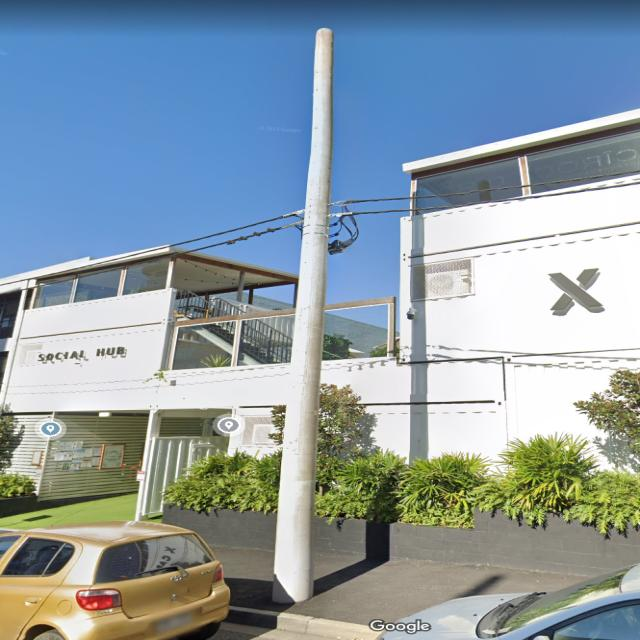concrete-pole: (271, 27, 336, 603)
top mount pole: (270, 27, 336, 604)
